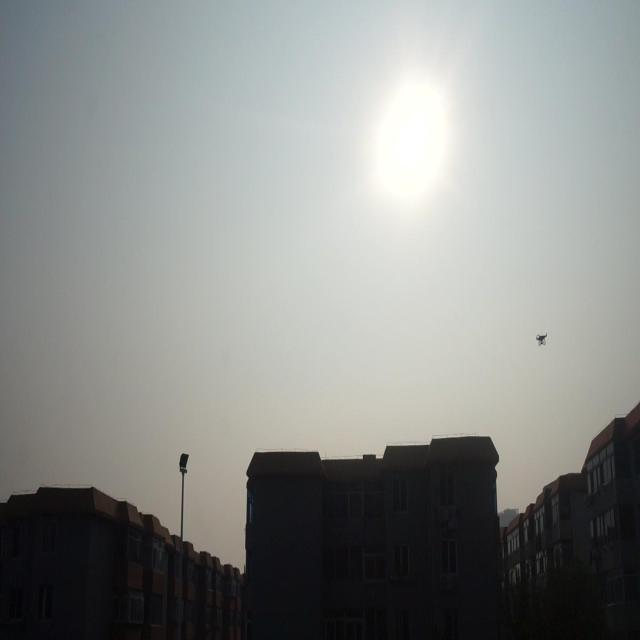drone: (534, 329, 548, 346)
